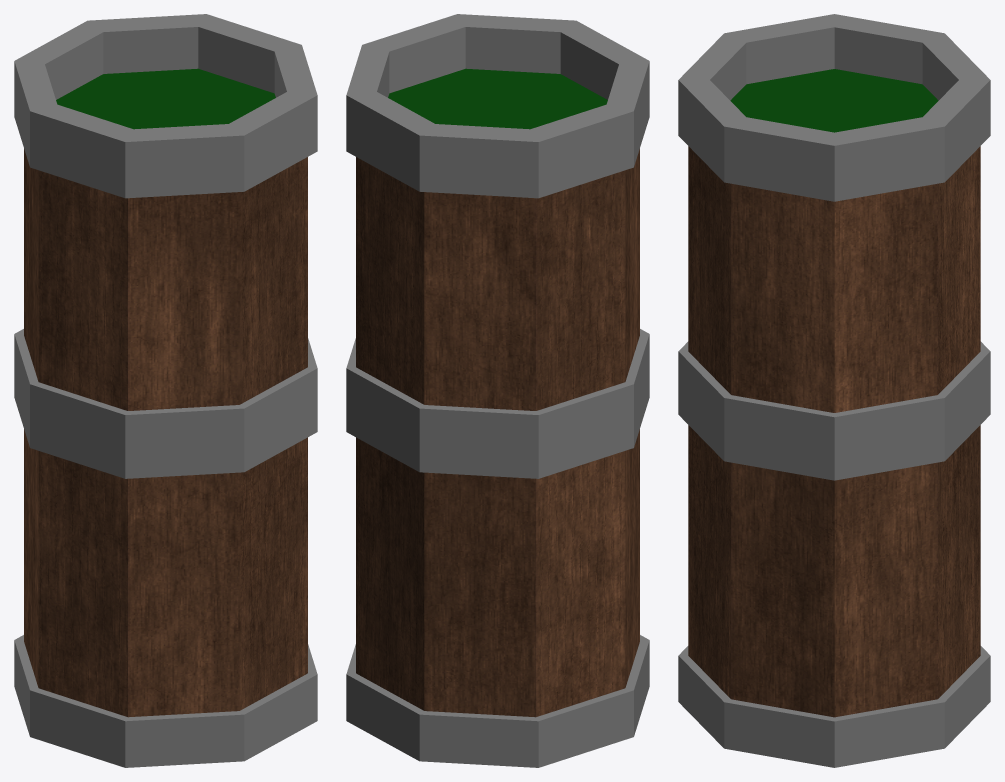
The model's file is Long Open Barrel.fbx.
3 renders of one model, left to right at view 1: azimuth 30°, elevation 25°; view 2: azimuth 150°, elevation 25°; view 3: azimuth 270°, elevation 25°, orthographic.
Visible parts, largest first — view 1: Long_Barrel; view 2: Long_Barrel; view 3: Long_Barrel.
Boxes of the visible parts, x1,y1,x2,y2 form: Long_Barrel: (14, 14, 317, 767); Long_Barrel: (346, 14, 649, 767); Long_Barrel: (678, 14, 990, 767).
Bounding box in the file's own units: 1.74 × 3.82 × 1.74.
Materials: 1 (1 with a texture image).
